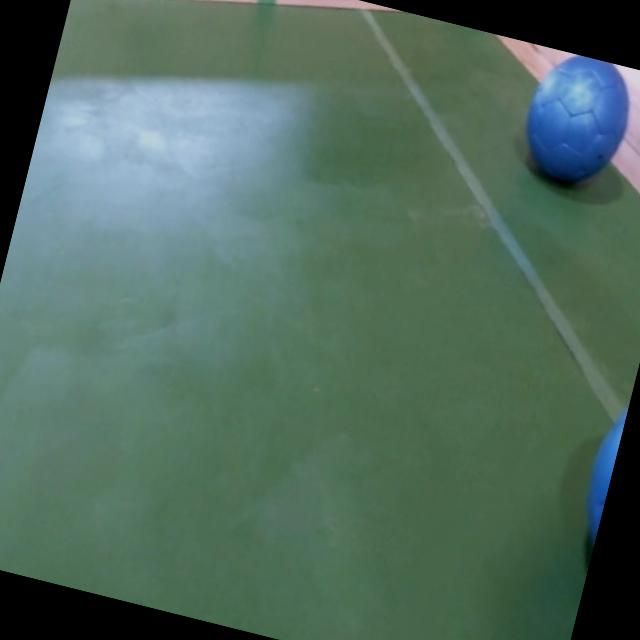blue_ball: (512, 46, 640, 197), (570, 400, 628, 564)
